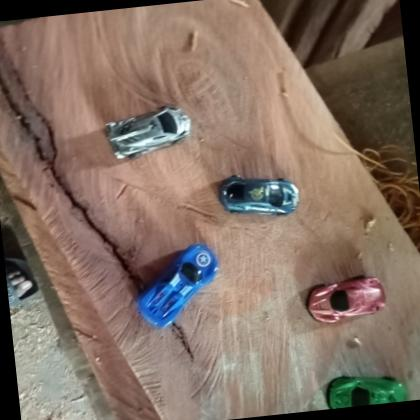Car: (128, 239, 224, 329), (99, 102, 196, 162), (216, 167, 302, 222), (304, 271, 390, 326)
